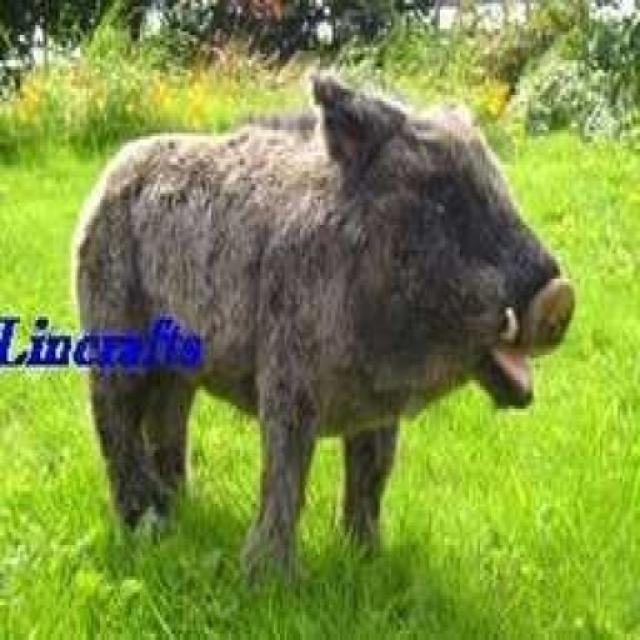pig: (76, 77, 622, 534)
